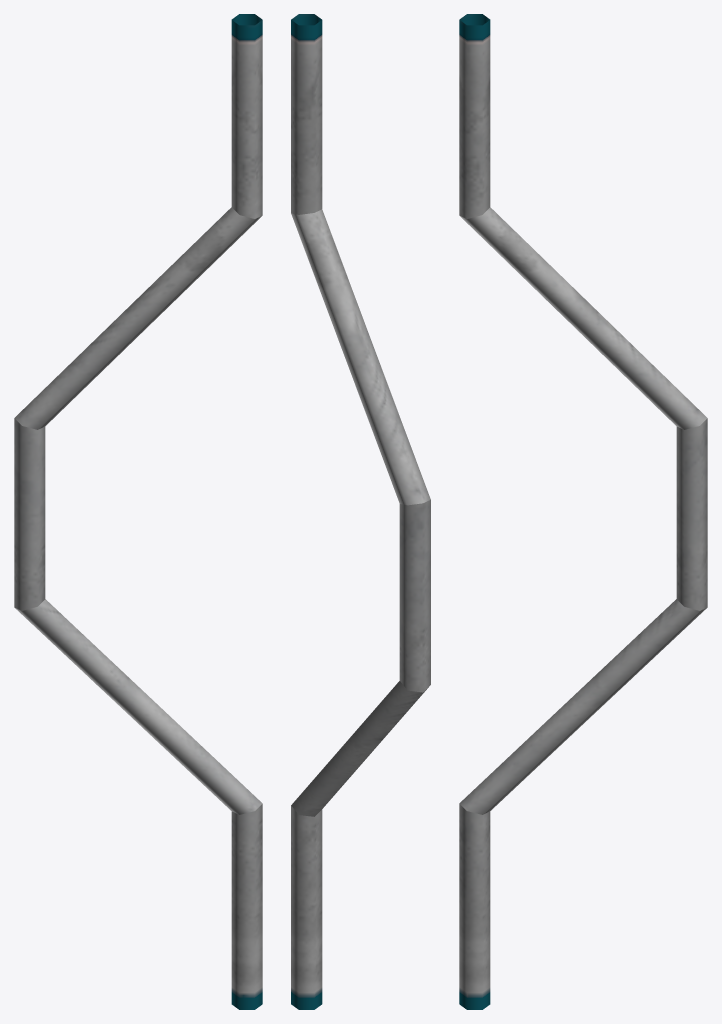
File: CP_Pipe_B_2m_04.fbx
The picture shows the model from 3 angles, left to right: view 1: azimuth 90°, elevation 25°; view 2: azimuth 210°, elevation 25°; view 3: azimuth 270°, elevation 25°; orthographic projection.
Visible parts, largest first — view 1: CP_Pipe_B_2m_04; view 2: CP_Pipe_B_2m_04; view 3: CP_Pipe_B_2m_04.
Part boxes in pixels (left/top/right/bottom): CP_Pipe_B_2m_04: left=14, top=14, right=262, bottom=1009; CP_Pipe_B_2m_04: left=291, top=14, right=430, bottom=1009; CP_Pipe_B_2m_04: left=459, top=14, right=707, bottom=1009.
Bounding box in the file's own units: 4.97 × 200 × 45.74.
